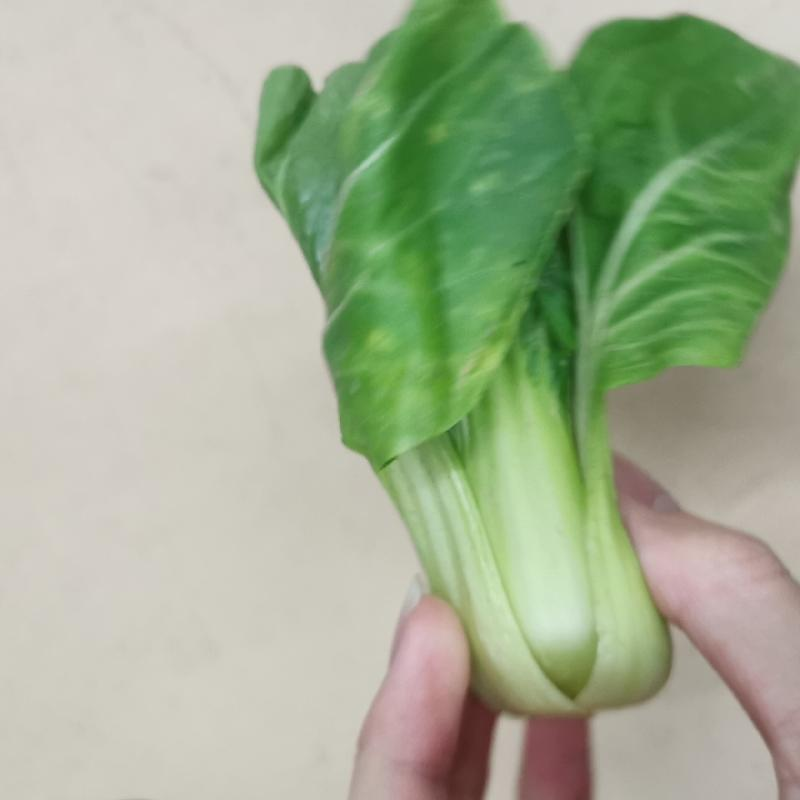green vegatable: (270, 31, 705, 432)
